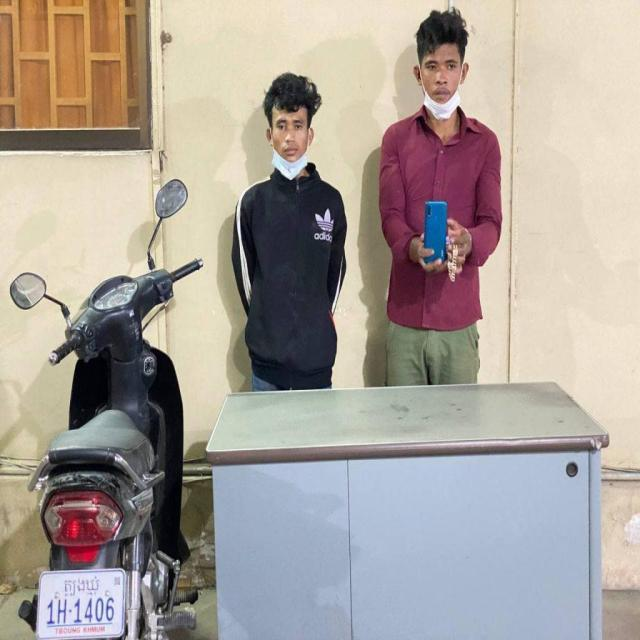Tboung_Khmum: (64, 575, 100, 598)
